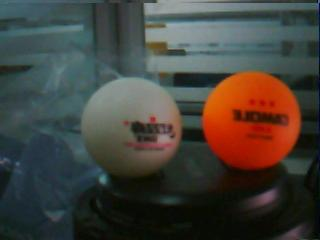oball: (202, 72, 300, 170)
